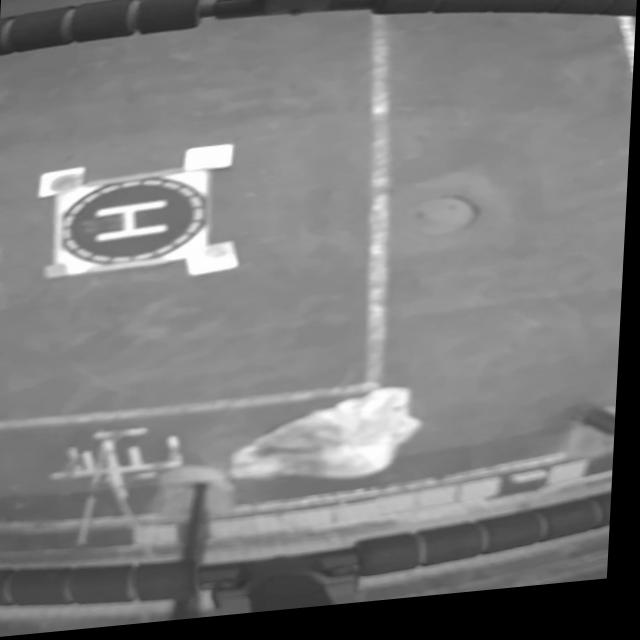Helipad: (93, 203, 173, 246)
